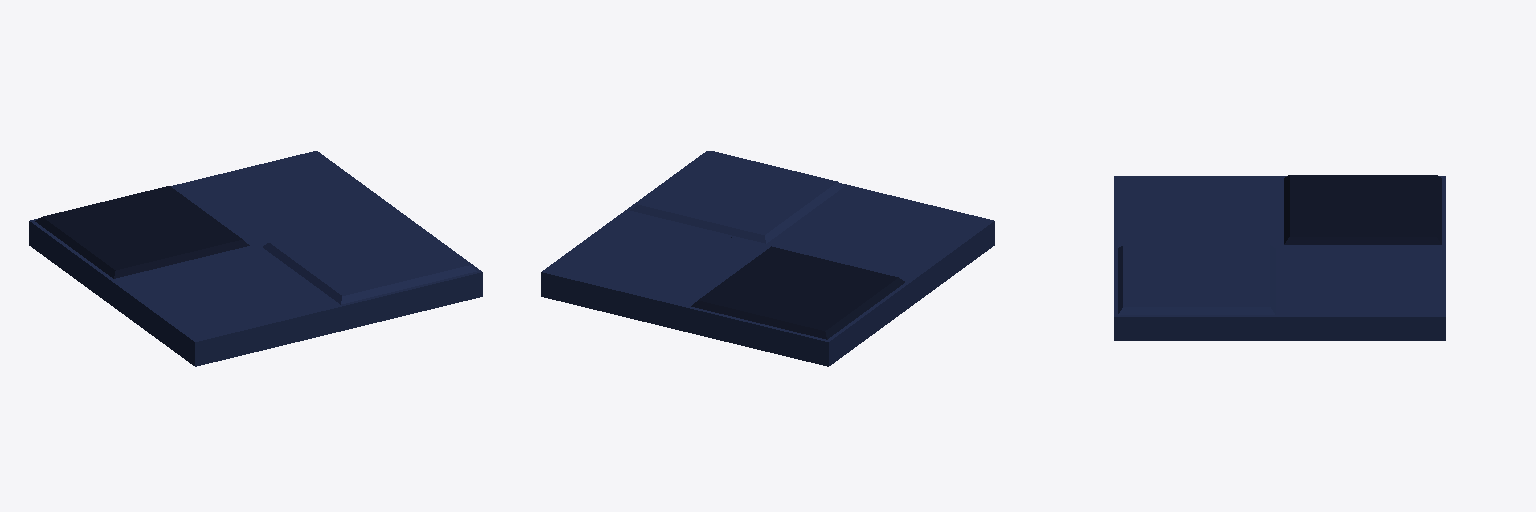
Rendered from tile5.obj.
3 renders of one model, left to right at view 1: azimuth 30°, elevation 25°; view 2: azimuth 150°, elevation 25°; view 3: azimuth 270°, elevation 25°, orthographic.
Visible parts, largest first — view 1: floor.005_grey_0; view 2: floor.005_grey_0; view 3: floor.005_grey_0.
Boxes of the visible parts, <box> form: floor.005_grey_0: <box>29,151,482,366</box>; floor.005_grey_0: <box>541,151,994,366</box>; floor.005_grey_0: <box>1114,175,1445,340</box>.
Bounding box in the file's own units: 1 × 0.1 × 1.